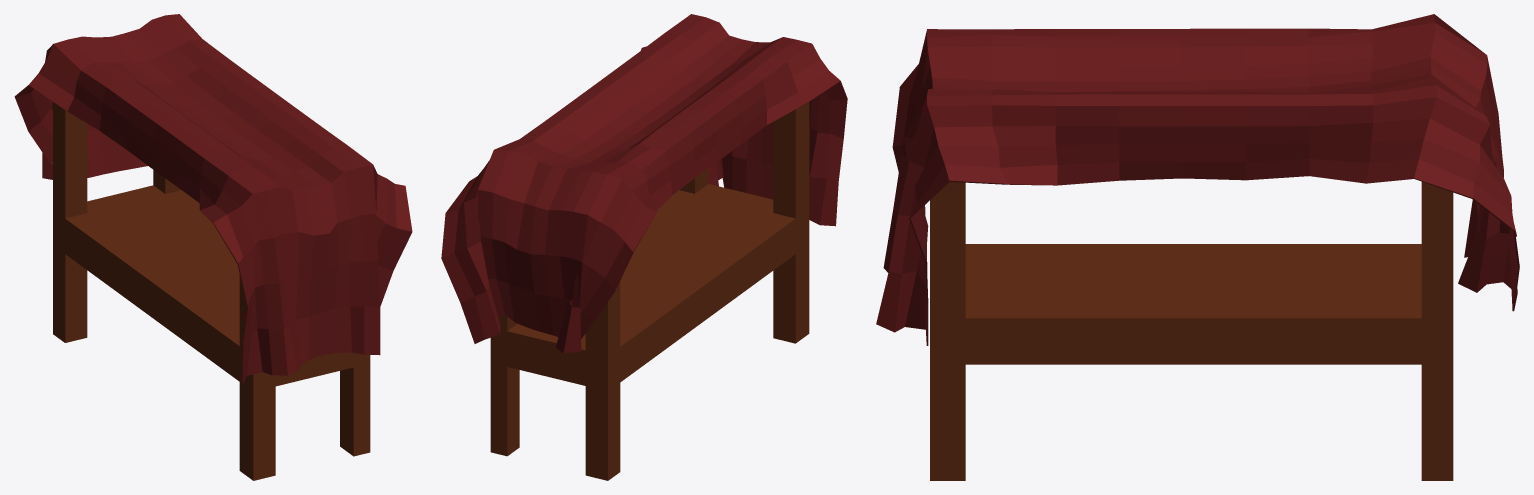
The model's file is echoppe.fbx.
3 renders of one model, left to right at view 1: azimuth 30°, elevation 25°; view 2: azimuth 150°, elevation 25°; view 3: azimuth 270°, elevation 25°, orthographic. The views are drawn at different scales.
Visible parts, largest first — view 1: Plane.001; view 2: Plane.001; view 3: Plane.001.
Part boxes in pixels (<box>): Plane.001: <box>14,14,412,480</box>; Plane.001: <box>441,14,847,480</box>; Plane.001: <box>876,14,1519,480</box>.
Bounding box in the file's own units: 173 × 252 × 377.
